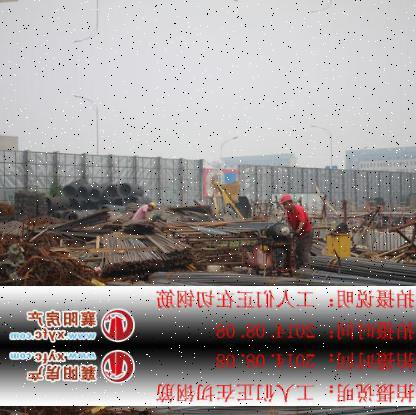helmet: (280, 191, 294, 210), (148, 198, 159, 210)
